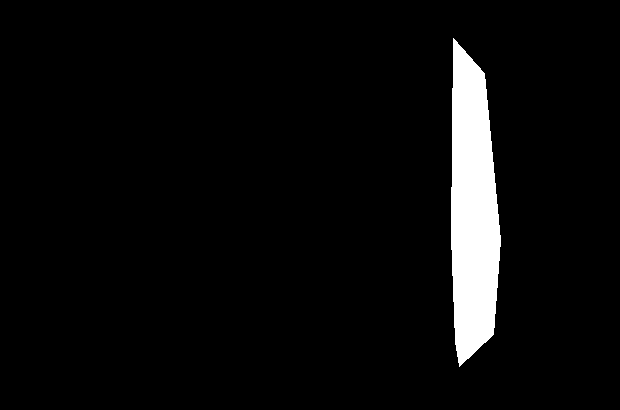type3s: (446, 31, 502, 367)
